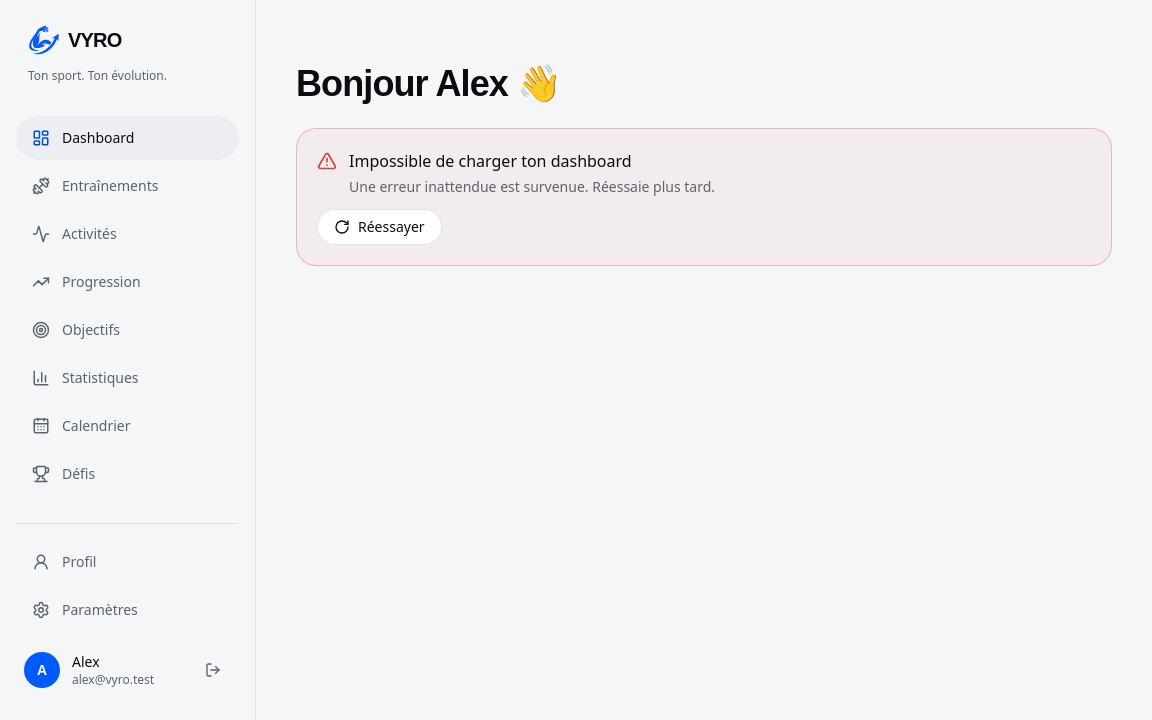
Test: Dashboard › shows an error with retry when the dashboard cannot load
This screenshot has width=1152, height=720.
Expected: the text "Impossible de charger ton dashboard" is shown, [349,150,632,172]
Click the button "Réessayer".
click(379, 227)  # box [317,209,442,245]
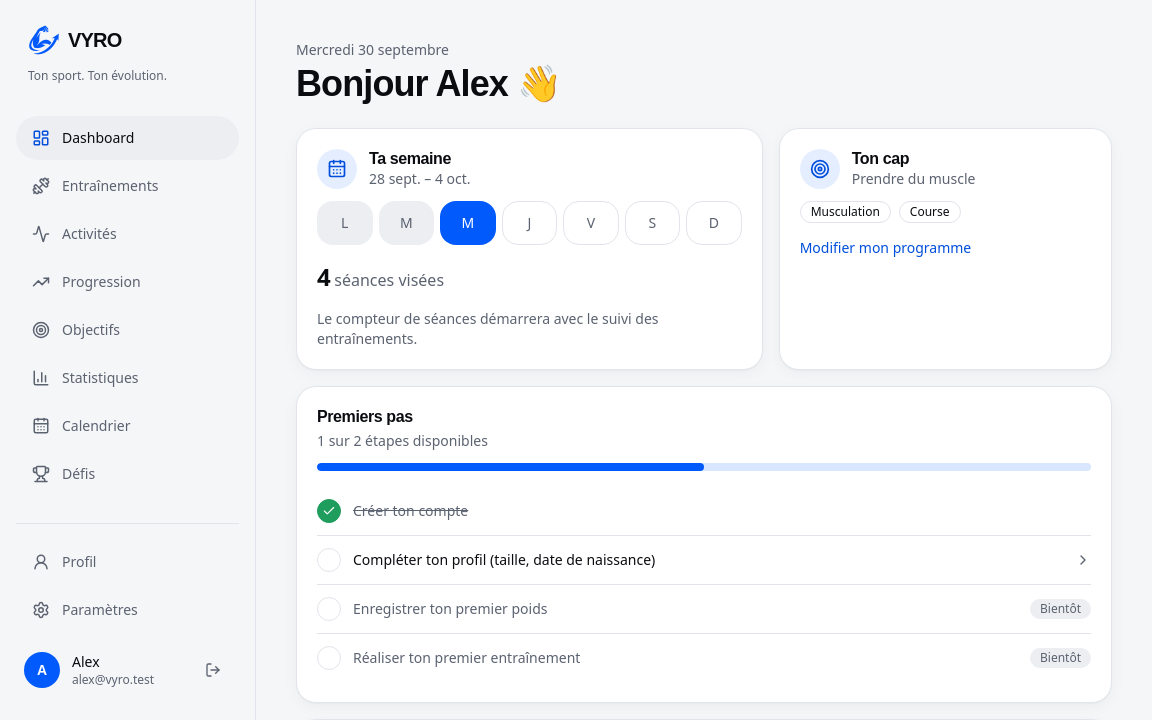
Expected: the heading "Ta semaine" is shown, [369,150,451,167]
